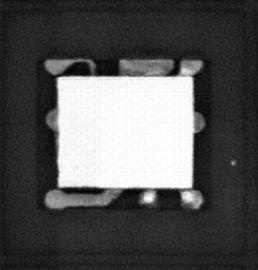DIE_INK: (228, 157, 238, 168)
